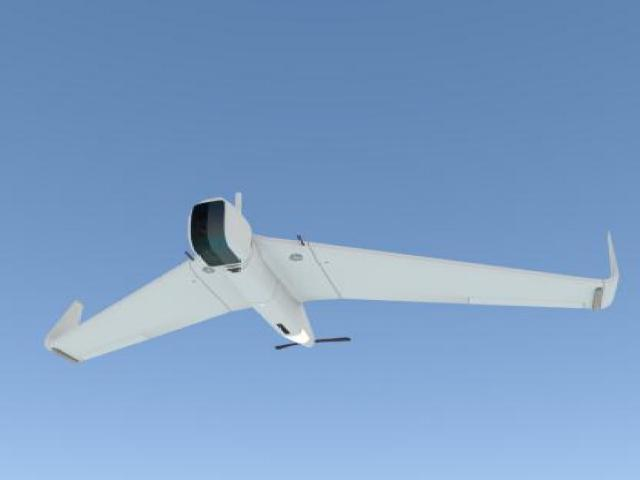uav: (43, 195, 622, 366)
